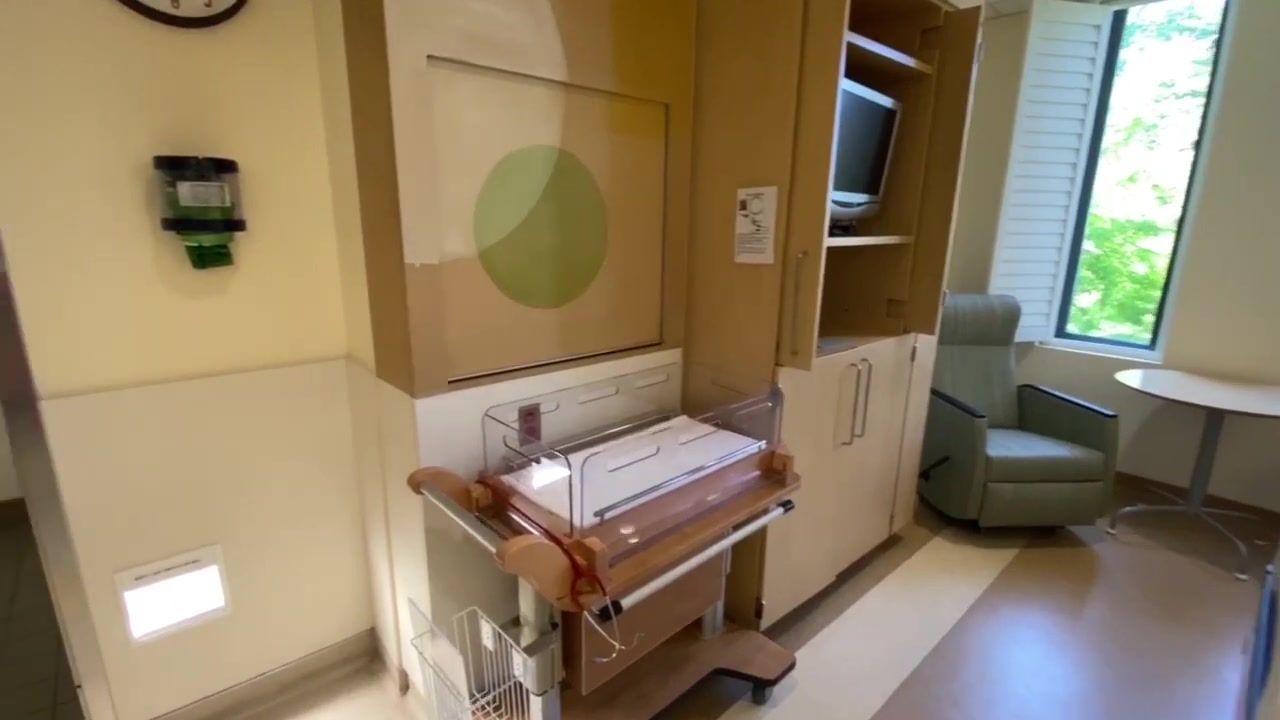TV: (829, 75, 905, 225)
handle: (840, 362, 863, 449), (788, 252, 807, 356), (857, 356, 878, 442)
sofa: (913, 293, 1121, 531)
table: (1106, 366, 1280, 584)
